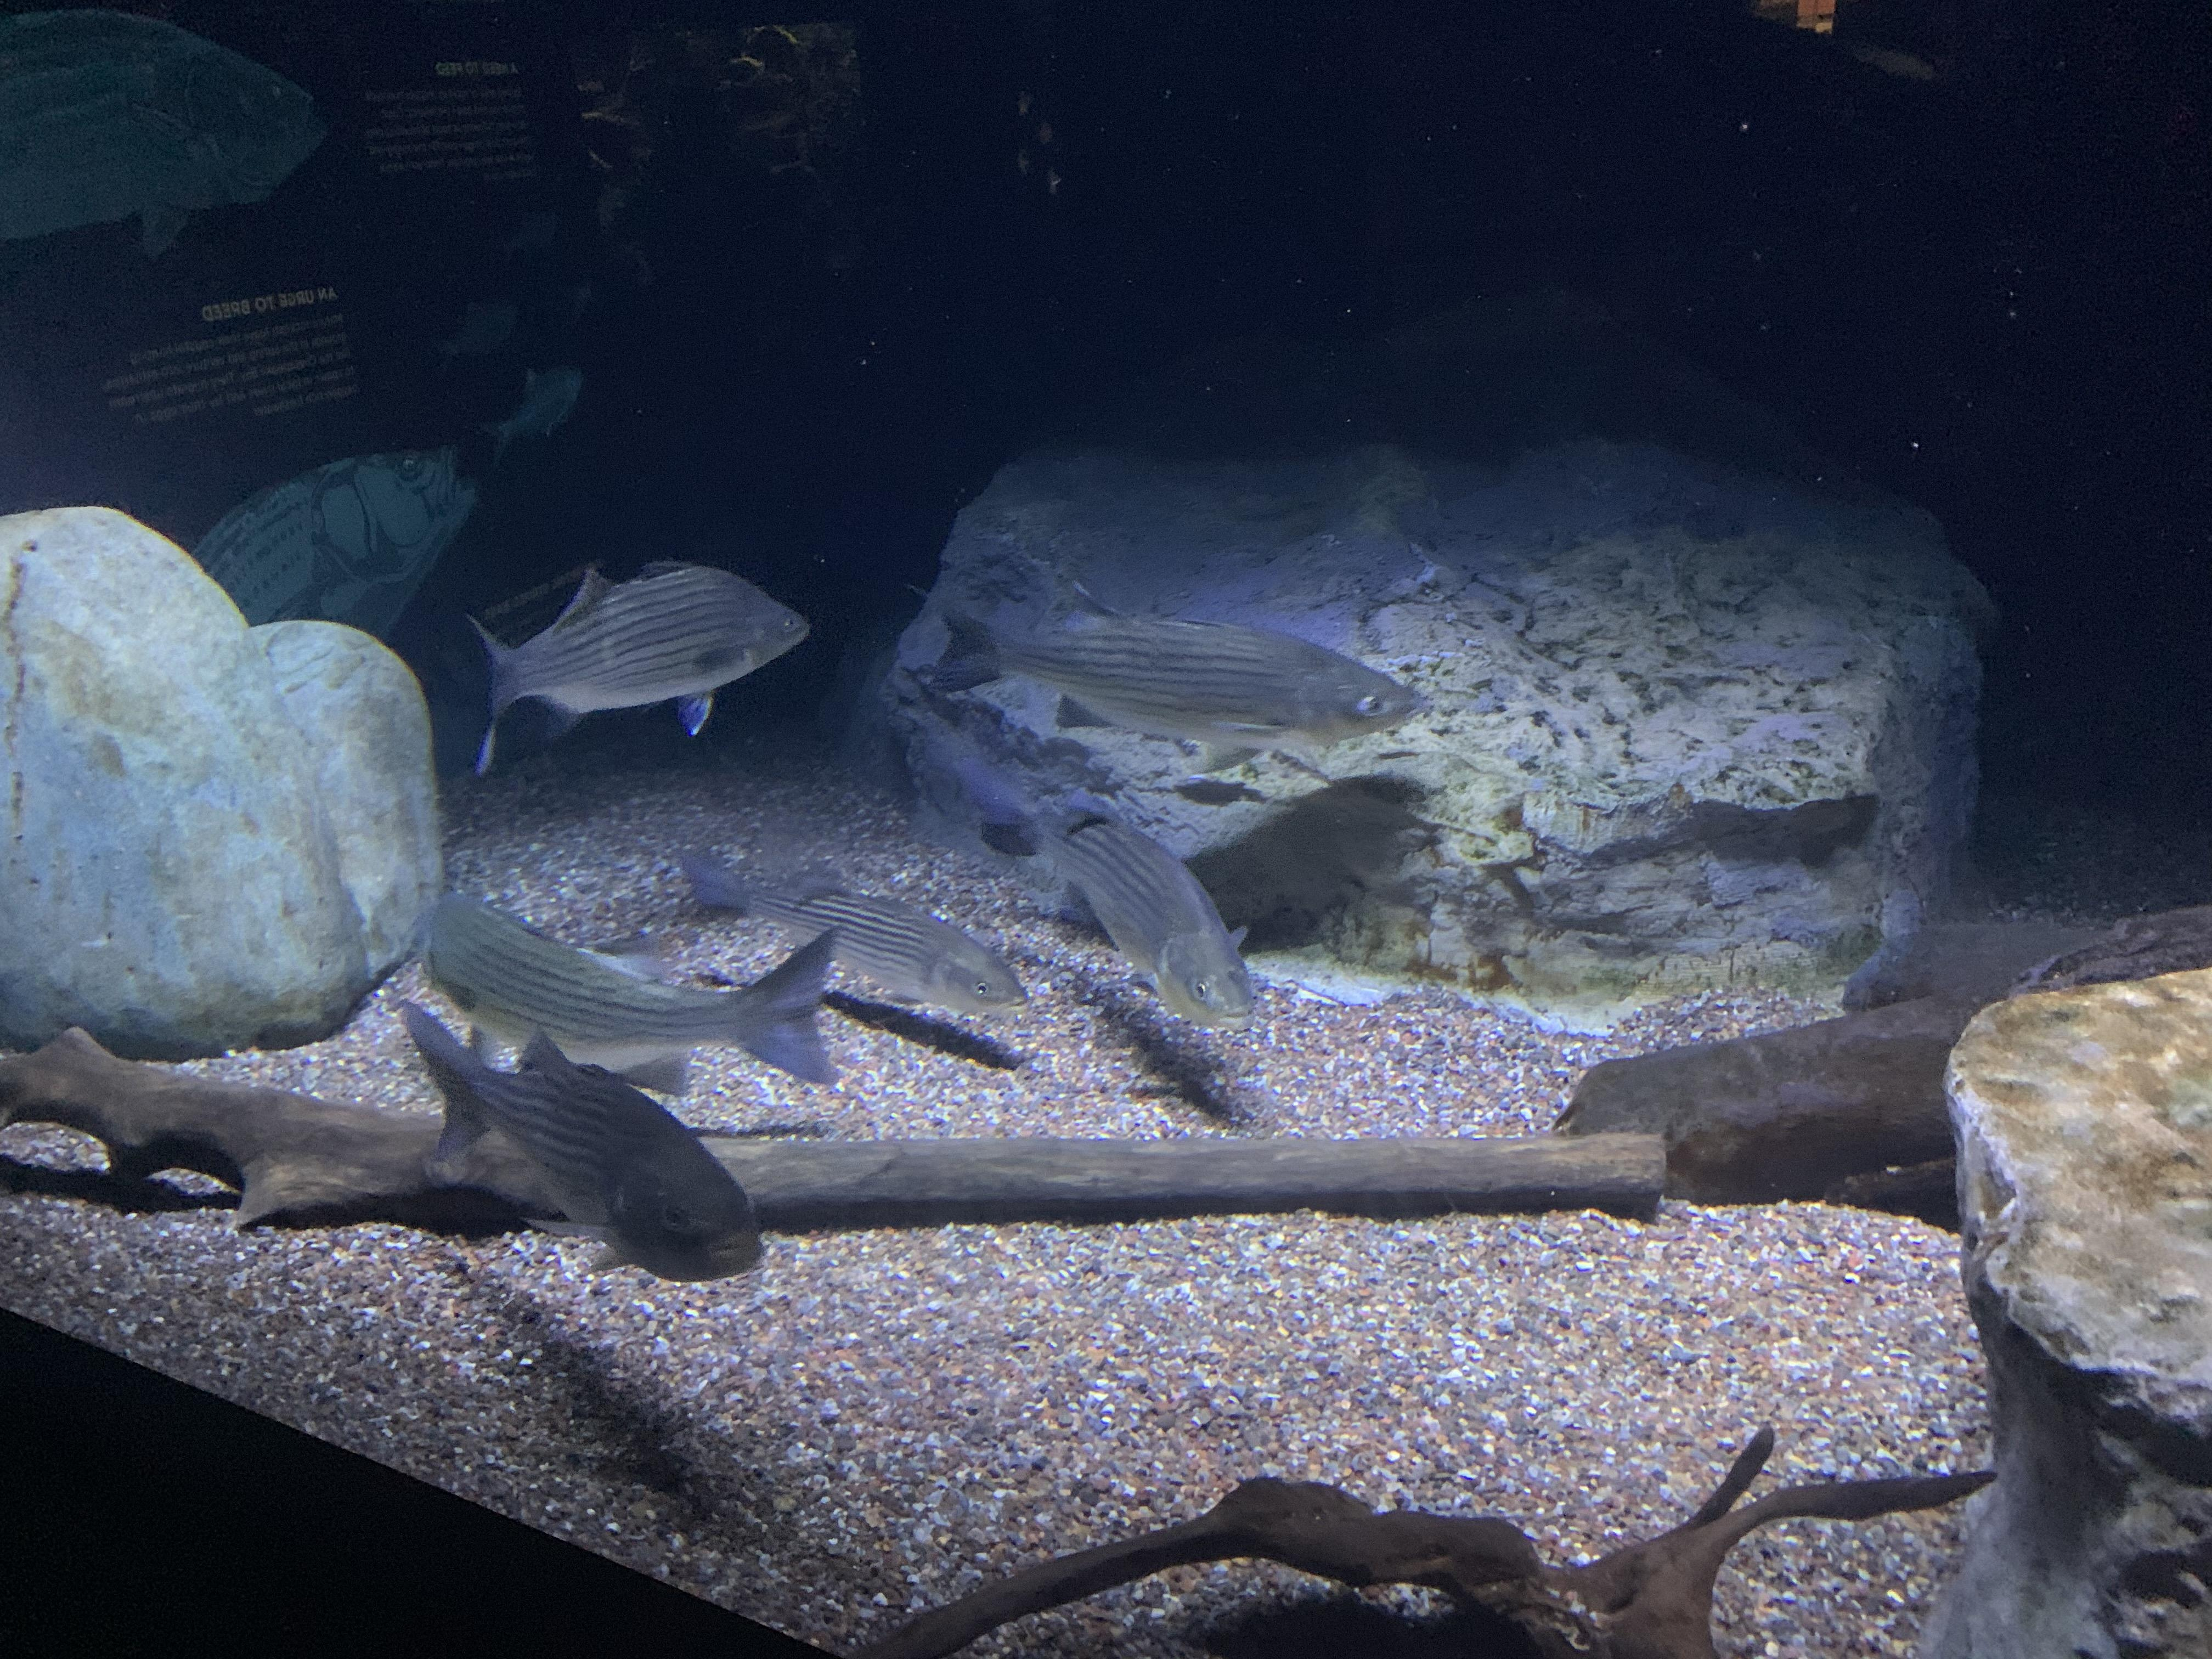fish: (387, 985, 766, 1284), (921, 587, 1439, 775), (418, 890, 846, 1096), (972, 756, 1268, 1033), (460, 558, 815, 777), (678, 845, 1031, 1016)
